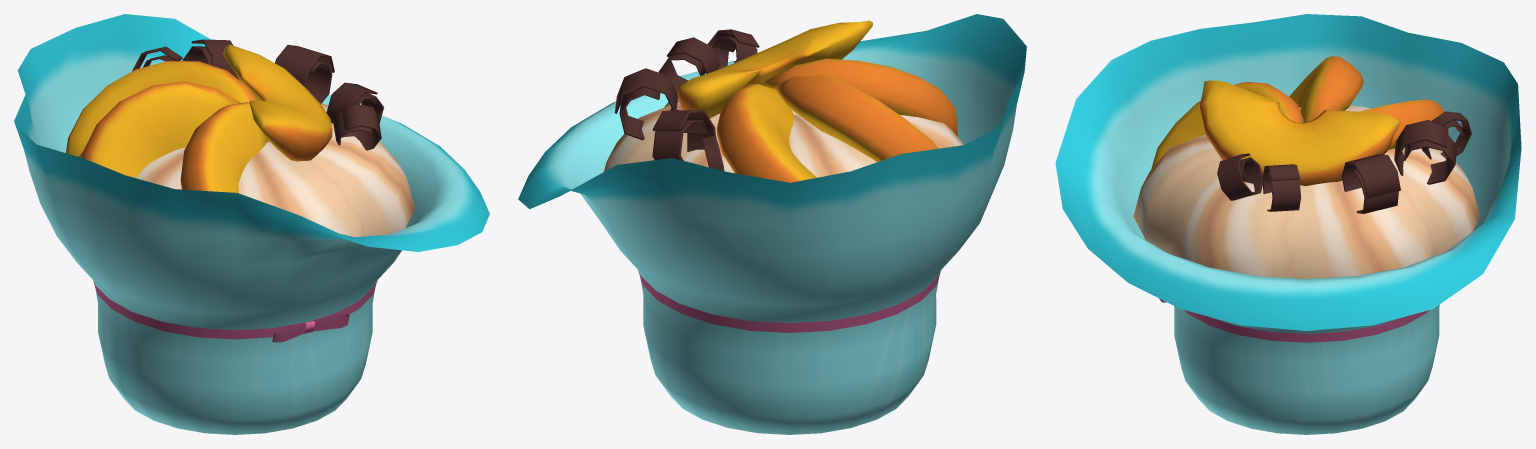
Rendered from cupcake_cream_1.fbx.
3 renders of one model, left to right at view 1: azimuth 30°, elevation 25°; view 2: azimuth 150°, elevation 25°; view 3: azimuth 270°, elevation 25°, orthographic. The views are drawn at different scales.
Visible parts, largest first — view 1: cupcake_sufle_peach_cup; view 2: cupcake_sufle_peach_cup; view 3: cupcake_sufle_peach_cup.
Boxes of the visible parts, <box> form: cupcake_sufle_peach_cup: <box>14,14,489,434</box>; cupcake_sufle_peach_cup: <box>518,14,1026,434</box>; cupcake_sufle_peach_cup: <box>1055,14,1521,434</box>.
Size of the model in its own units: 14.81 by 10.62 by 14.83.
